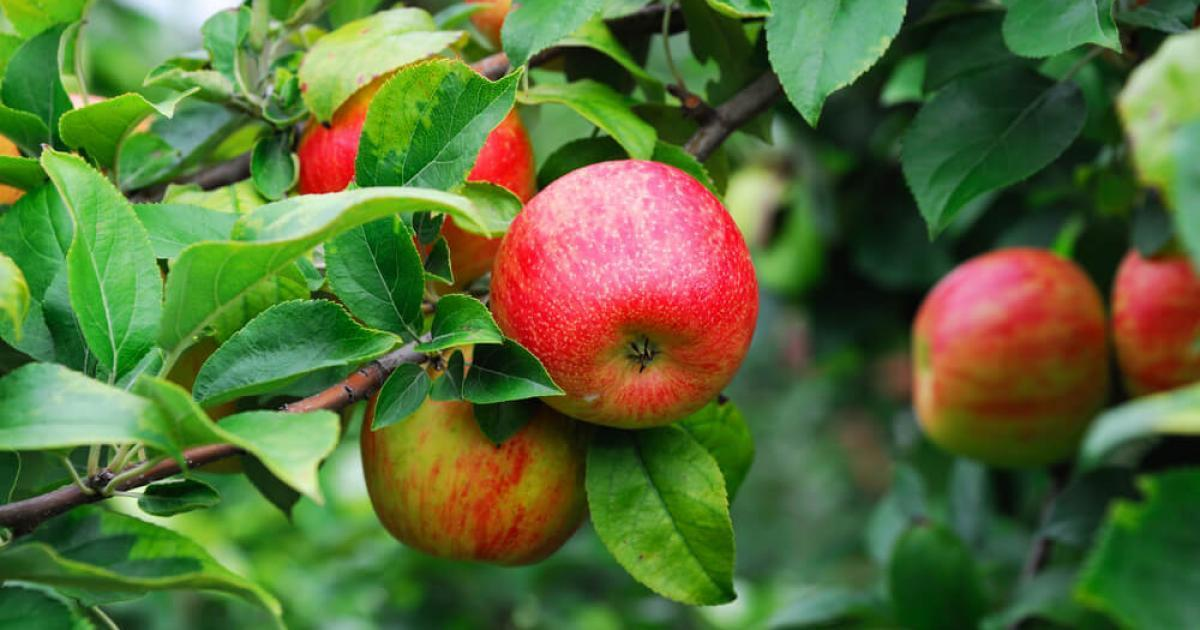apple: (492, 158, 765, 428), (285, 66, 537, 293), (359, 377, 586, 564), (916, 246, 1107, 464)
